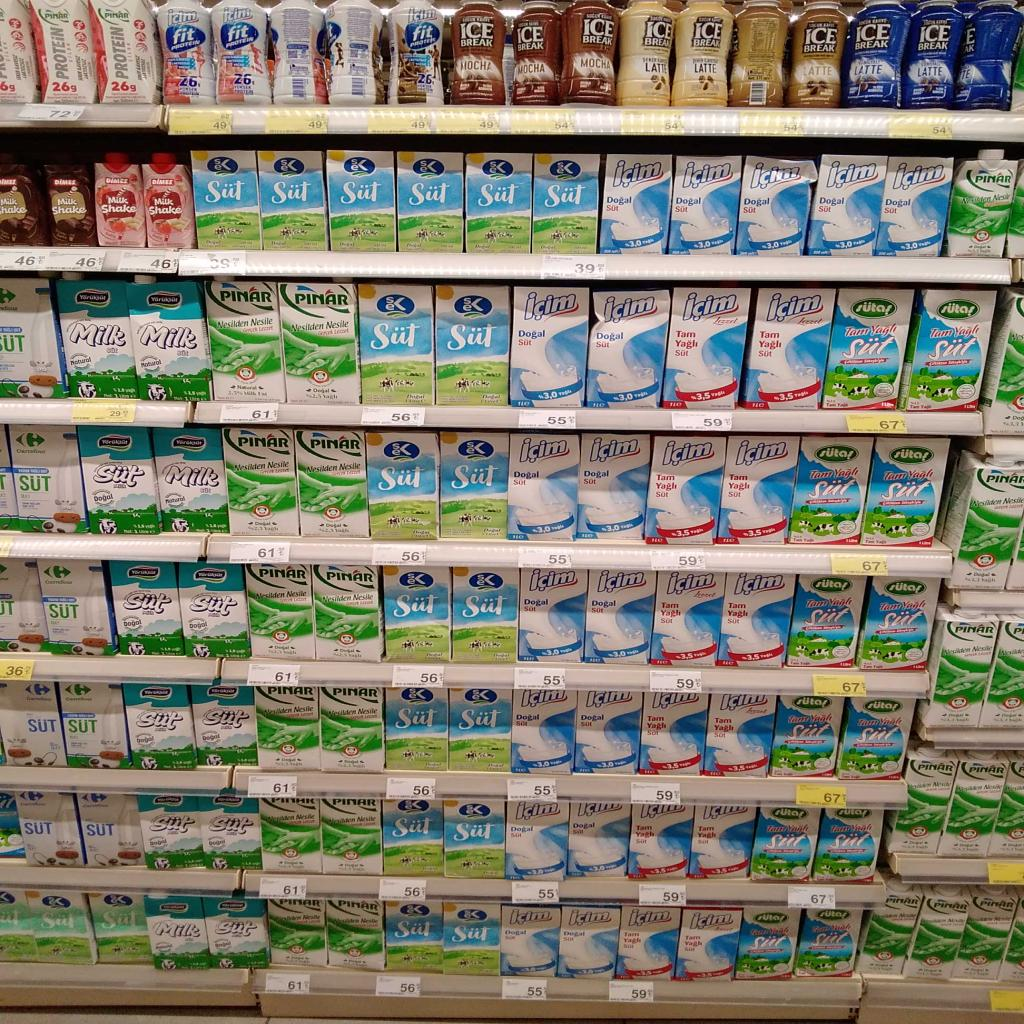price_tag: (169, 105, 232, 135), (888, 112, 953, 141), (740, 110, 804, 137), (511, 108, 576, 134), (180, 251, 247, 276), (367, 109, 434, 134), (435, 108, 499, 134), (620, 110, 684, 135), (265, 108, 329, 133), (541, 255, 607, 279), (72, 399, 135, 423), (117, 250, 179, 273), (44, 248, 106, 271), (845, 413, 908, 434), (230, 541, 290, 563), (507, 775, 557, 801), (247, 663, 301, 687), (672, 411, 733, 432), (651, 548, 706, 571), (813, 674, 867, 697), (361, 407, 425, 426), (372, 544, 427, 566), (18, 104, 85, 122), (831, 554, 888, 575), (392, 665, 444, 688), (650, 670, 702, 693), (220, 403, 279, 423), (514, 667, 565, 690), (795, 784, 846, 807), (518, 409, 576, 429), (247, 775, 297, 798), (632, 781, 681, 804), (511, 881, 559, 904), (638, 884, 686, 907), (386, 777, 436, 799), (788, 886, 835, 909), (379, 878, 426, 901), (518, 548, 572, 568), (259, 877, 307, 899), (0, 249, 47, 270), (502, 977, 546, 999), (377, 975, 420, 997), (609, 981, 654, 1002), (265, 972, 309, 993), (987, 861, 1024, 885), (990, 990, 1023, 1012), (0, 659, 34, 680), (0, 536, 15, 558)
product: (898, 289, 996, 411), (741, 286, 835, 410), (940, 452, 1023, 590), (661, 286, 750, 411), (823, 288, 913, 410), (509, 282, 589, 407), (127, 282, 211, 401), (279, 282, 360, 404), (860, 437, 949, 548), (586, 289, 669, 408), (204, 279, 284, 402), (918, 605, 997, 727), (57, 280, 138, 397), (714, 436, 800, 545), (359, 284, 435, 406), (789, 436, 873, 544), (436, 284, 510, 406), (644, 435, 725, 544), (8, 425, 88, 533), (222, 425, 300, 535), (82, 428, 162, 534), (806, 155, 887, 256), (0, 278, 68, 398), (576, 432, 651, 540), (297, 428, 369, 538), (367, 431, 439, 541), (508, 432, 580, 542), (153, 428, 229, 532), (874, 156, 953, 256), (737, 156, 816, 256), (715, 571, 795, 668), (786, 573, 865, 671), (938, 751, 1011, 857), (856, 577, 939, 670), (953, 0, 1023, 110), (38, 559, 116, 656), (946, 151, 1017, 257), (886, 747, 956, 853), (598, 154, 672, 254), (88, 0, 159, 104), (843, 0, 910, 108), (440, 432, 508, 538), (668, 156, 741, 254), (583, 569, 657, 665), (651, 570, 725, 666), (29, 0, 96, 105), (192, 151, 262, 250), (327, 151, 396, 251), (258, 151, 327, 251), (312, 564, 383, 661), (901, 0, 964, 109), (244, 563, 314, 661), (178, 563, 250, 658), (465, 152, 532, 254), (111, 562, 184, 655), (533, 152, 600, 253), (397, 152, 464, 253), (856, 878, 923, 976), (672, 0, 733, 107), (728, 0, 789, 107), (518, 568, 587, 662), (451, 567, 518, 662), (123, 683, 196, 770), (836, 698, 914, 779), (787, 0, 846, 107), (980, 288, 1023, 434), (952, 886, 1018, 981), (769, 695, 845, 777), (701, 693, 775, 777), (384, 567, 450, 661), (559, 0, 618, 105), (327, 0, 385, 106), (58, 683, 130, 768), (157, 0, 215, 105), (213, 0, 271, 104), (617, 0, 673, 107), (270, 0, 327, 105), (904, 886, 968, 979), (388, 0, 444, 106), (251, 687, 320, 772), (638, 692, 708, 775), (0, 680, 66, 766), (451, 0, 505, 105), (574, 690, 642, 773), (511, 689, 576, 774), (320, 686, 384, 772), (811, 808, 883, 883), (16, 791, 87, 867), (751, 805, 820, 882), (449, 687, 511, 772), (192, 685, 257, 766), (385, 687, 448, 770), (513, 0, 562, 106), (27, 890, 96, 964), (673, 907, 742, 981), (144, 896, 213, 969), (142, 154, 195, 248), (505, 801, 568, 880), (688, 805, 756, 878), (734, 906, 801, 980), (137, 795, 203, 870), (628, 804, 693, 880), (77, 793, 143, 867), (980, 615, 1023, 728), (95, 153, 146, 248), (568, 801, 631, 877), (616, 906, 681, 979), (557, 905, 621, 979), (260, 799, 322, 875), (444, 801, 505, 878), (321, 799, 382, 875), (794, 909, 862, 977), (200, 795, 261, 870), (383, 799, 443, 875), (204, 898, 269, 968), (44, 164, 98, 247), (88, 893, 151, 964), (501, 904, 561, 977), (0, 160, 50, 247), (0, 558, 46, 651), (444, 901, 500, 976), (0, 0, 40, 104), (327, 900, 385, 971), (386, 901, 443, 973), (267, 900, 327, 967), (985, 760, 1023, 859), (0, 888, 38, 961), (981, 521, 982, 523)
